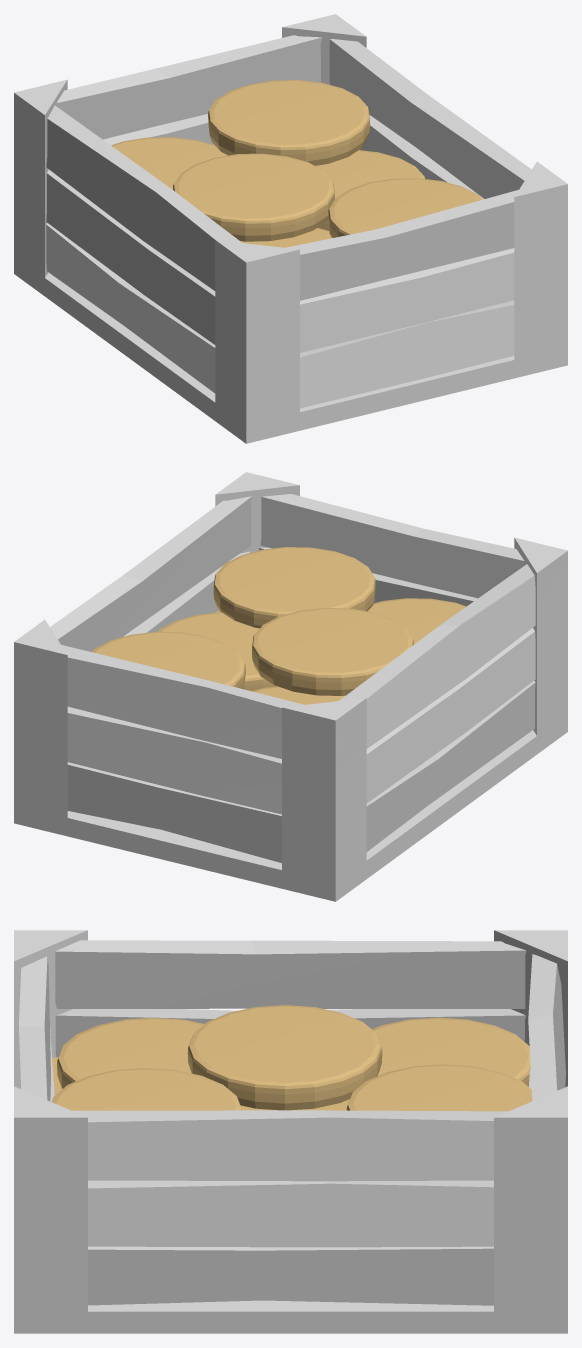
The model's file is BunBottomCrate.fbx.
3 views of the same model, one above another, from view 1: azimuth 30°, elevation 25°; view 2: azimuth 150°, elevation 25°; view 3: azimuth 270°, elevation 25° (orthographic). The views are drawn at different scales.
Parts seen in each view (by area): view 1: Plane; view 2: Plane; view 3: Plane.
Boxes of the visible parts, x1,y1,x2,y2 form: Plane: (14,14,567,443); Plane: (14,472,567,901); Plane: (14,930,567,1333).
Size of the model in its own units: 161 by 86.16 by 200.
